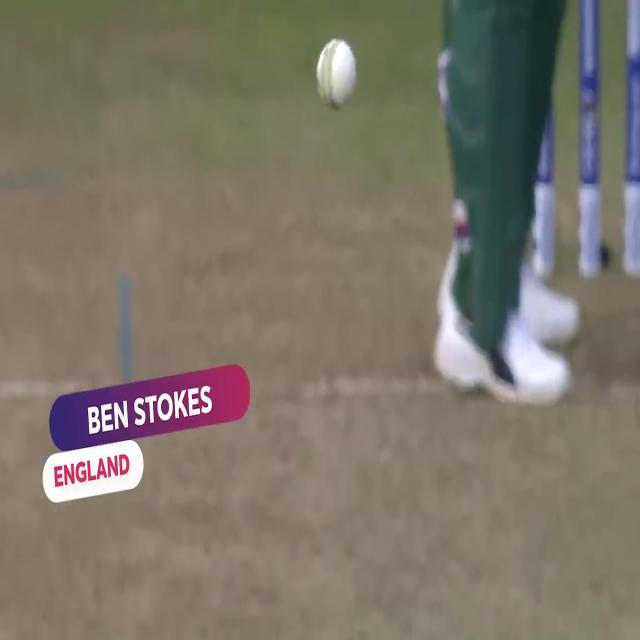ball: (313, 36, 362, 113)
